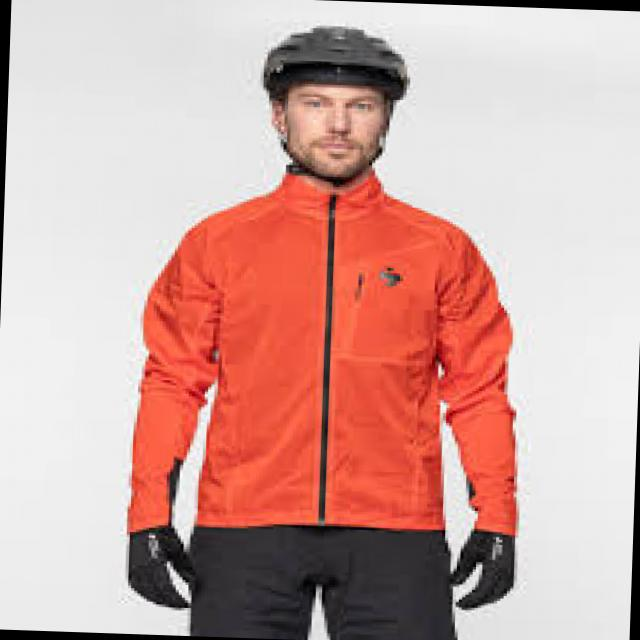Jacket: (34, 148, 602, 584)
